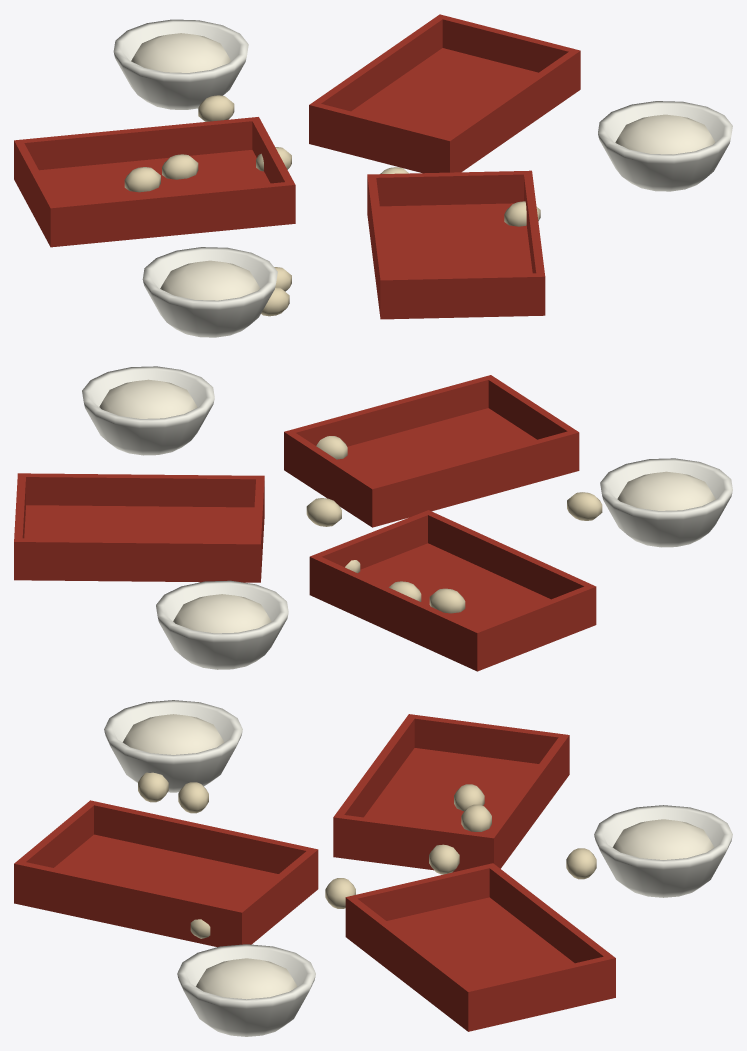
The model's file is jaanne-ruoka.glb.
The picture shows the model from 3 angles, top to bottom: view 1: azimuth 30°, elevation 25°; view 2: azimuth 150°, elevation 25°; view 3: azimuth 270°, elevation 25°; orthographic projection. The views are drawn at different scales.
Parts seen in each view (by area): view 1: jaanne-ruoka; view 2: jaanne-ruoka; view 3: jaanne-ruoka.
Boxes of the visible parts, x1=… form: jaanne-ruoka: x1=14, y1=14, x2=732, y2=337; jaanne-ruoka: x1=14, y1=366, x2=732, y2=671; jaanne-ruoka: x1=14, y1=700, x2=732, y2=1036.
Bounding box in the file's own units: 0.98 × 0.081 × 0.9831.
